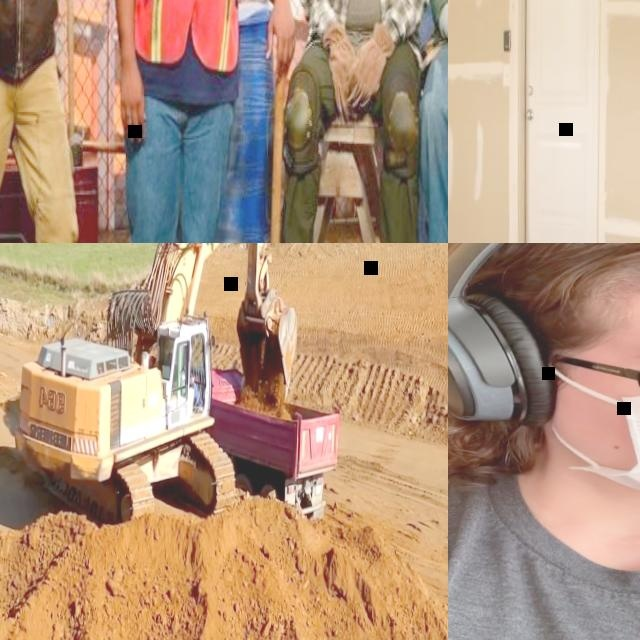Mask: (539, 377, 640, 521)
NO-Safety Vest: (448, 468, 640, 640)
Person: (448, 243, 640, 640), (99, 0, 302, 243), (275, 0, 433, 243), (0, 0, 134, 243), (179, 368, 201, 408)
Safety Vest: (121, 0, 254, 57)
machinery: (12, 243, 300, 526), (203, 367, 340, 518)
